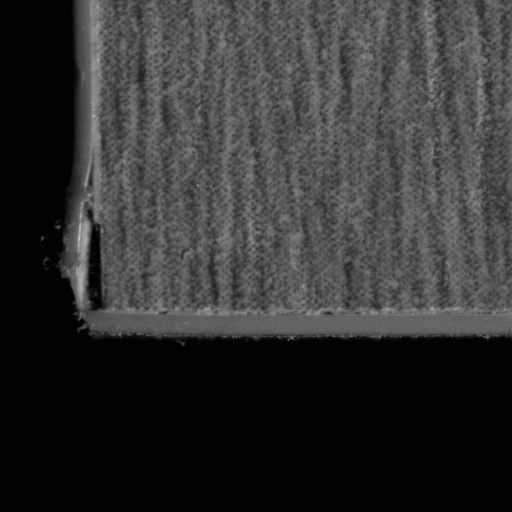kaijiao: (60, 155, 108, 316)
